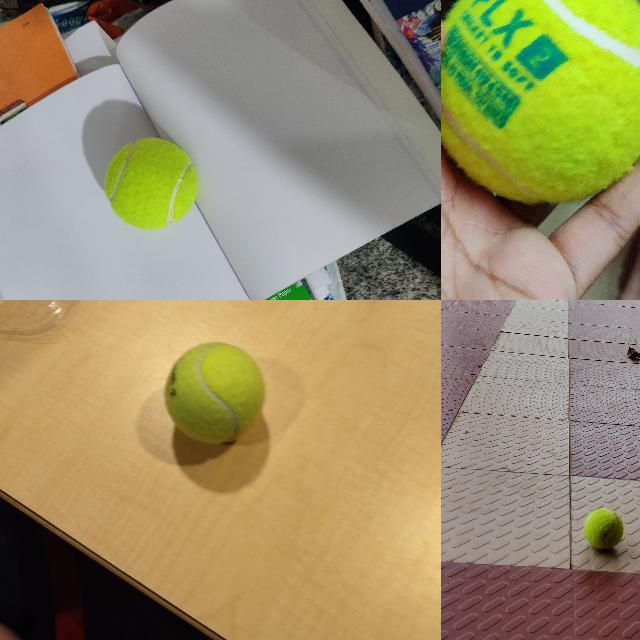tennis-ball: (441, 0, 639, 203), (165, 340, 266, 444), (105, 137, 198, 230), (584, 508, 623, 548)
